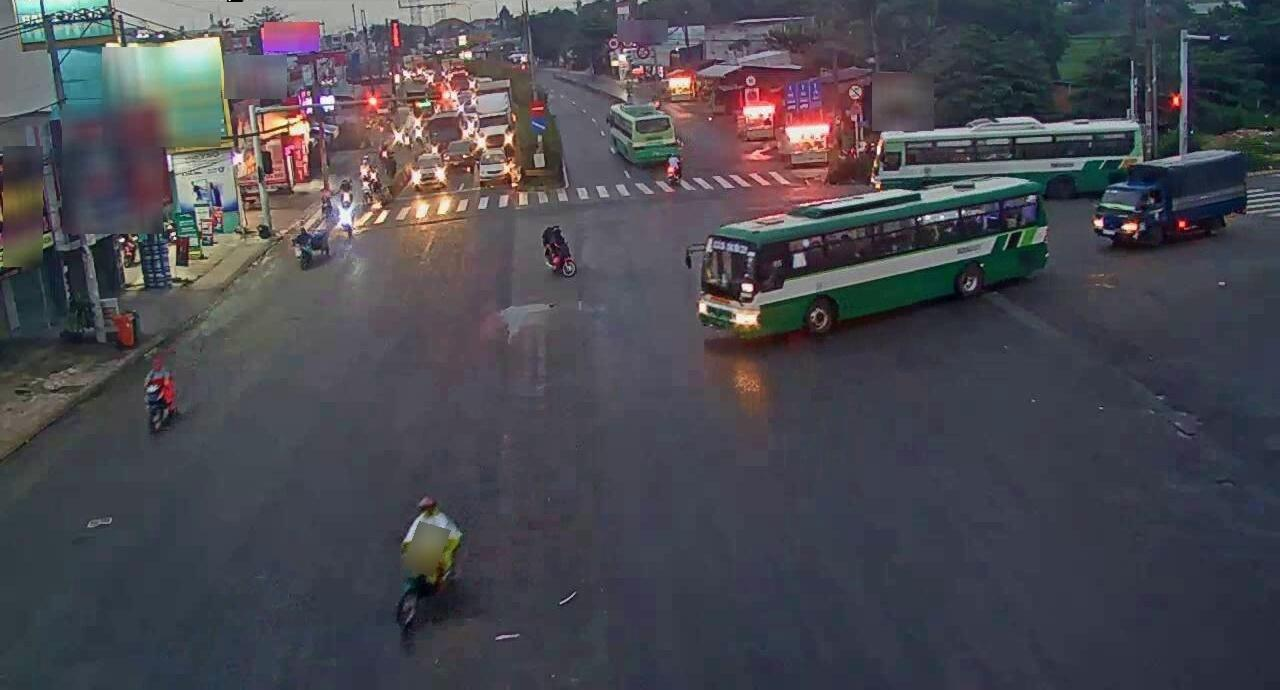xe buyt: (688, 172, 1053, 342)
xe may: (389, 489, 464, 631), (136, 356, 179, 432), (540, 220, 577, 280)
